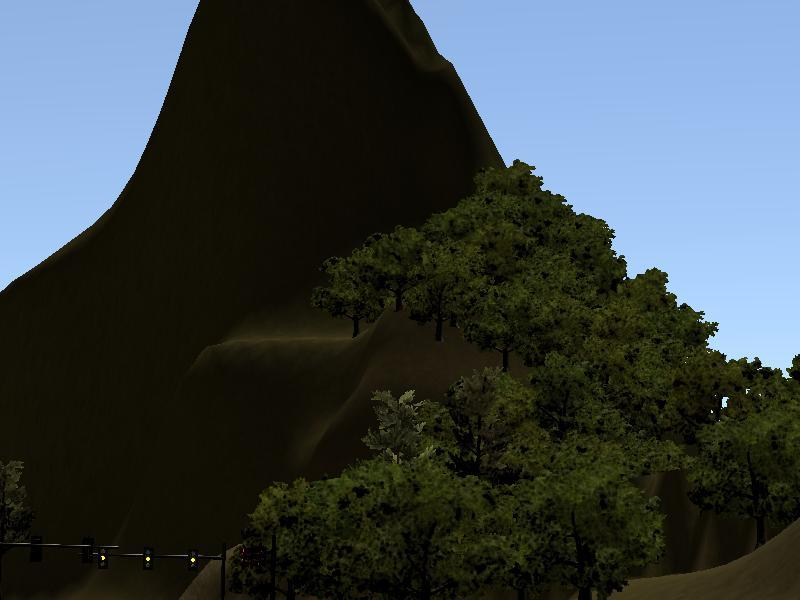Yellow: (143, 547, 154, 571), (187, 548, 198, 570), (98, 547, 108, 570)
